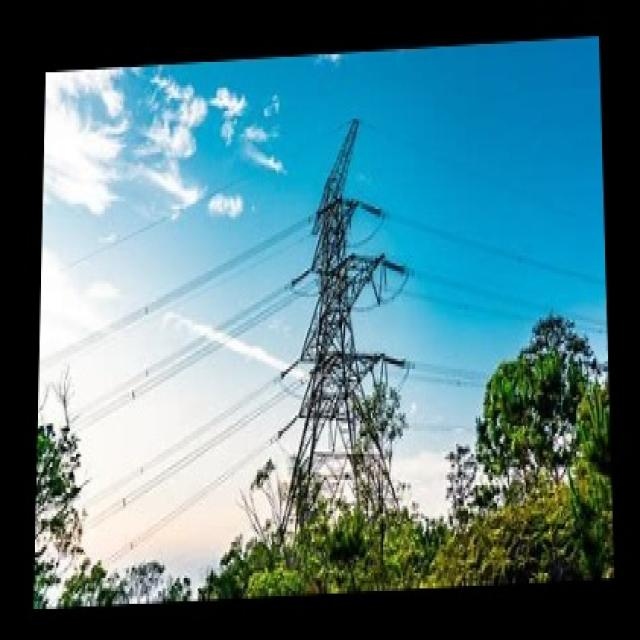utility poles: (453, 304, 603, 481), (295, 336, 415, 546)
